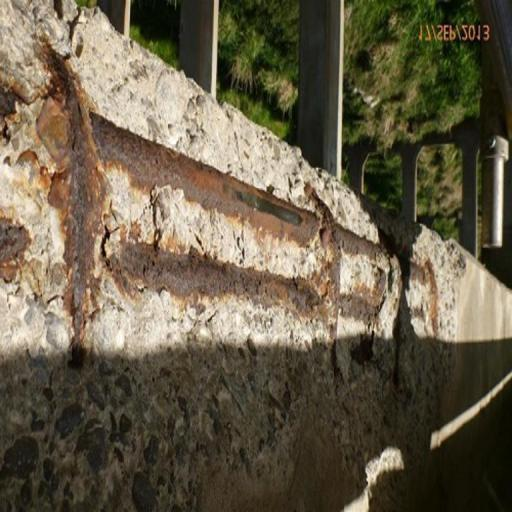spalling: (0, 1, 455, 511)
